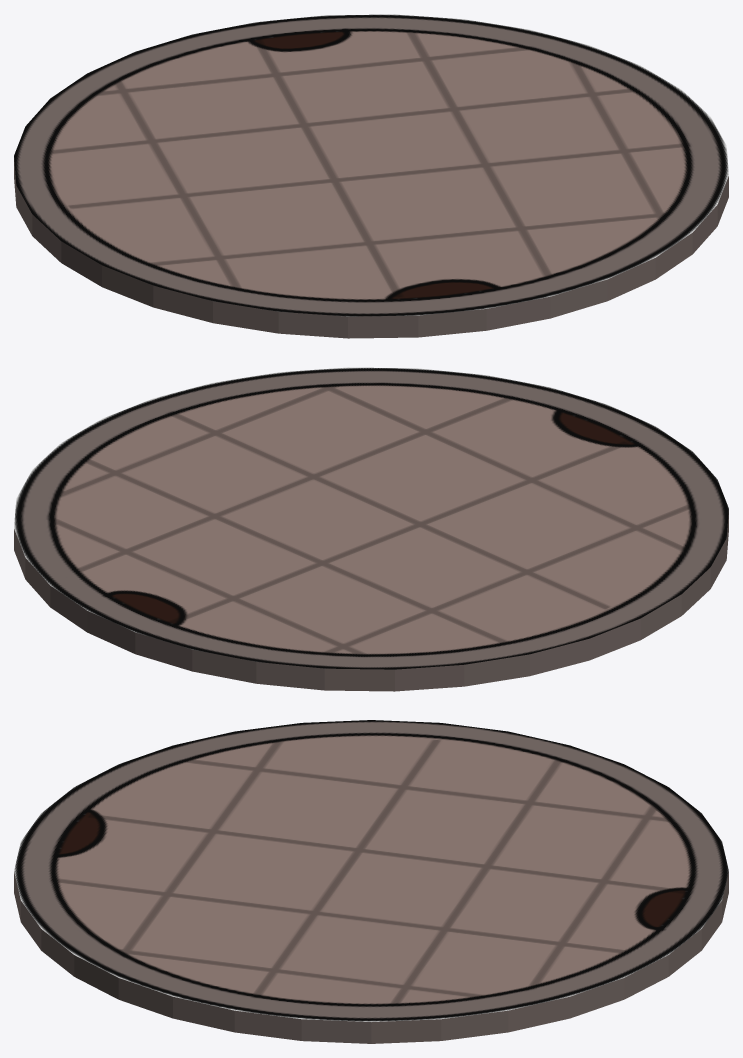
3 renders of one model, top to bottom at view 1: azimuth 30°, elevation 25°; view 2: azimuth 150°, elevation 25°; view 3: azimuth 270°, elevation 25°, orthographic.
Visible parts, largest first — view 1: Circle; view 2: Circle; view 3: Circle.
Part boxes in pixels (x1,y1,x2,y2): Circle: (14, 14, 728, 338); Circle: (14, 367, 728, 691); Circle: (14, 720, 728, 1043).
Bounding box in the file's own units: 200 × 6.74 × 200.
